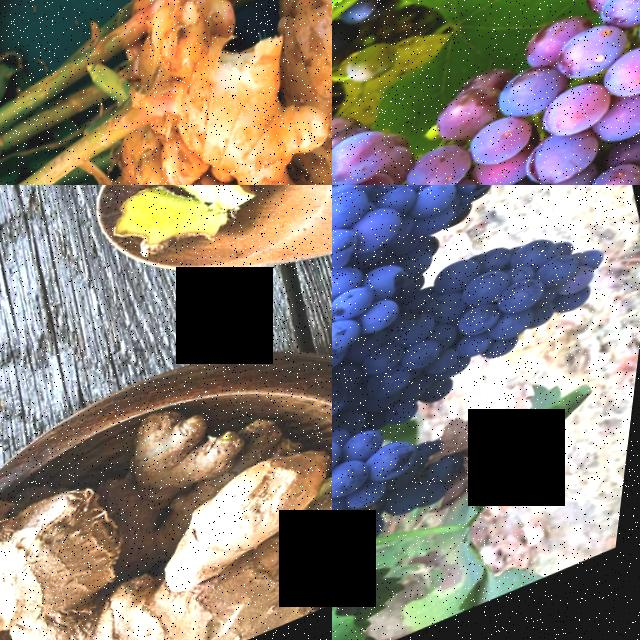ginger: (124, 447, 332, 640), (0, 422, 160, 640), (112, 30, 332, 185), (111, 389, 265, 531), (96, 185, 279, 282), (246, 0, 332, 185)
grapes: (377, 211, 635, 420), (332, 185, 636, 354), (375, 0, 640, 185), (332, 363, 439, 591), (332, 242, 439, 453), (438, 83, 640, 185), (332, 92, 459, 185)
